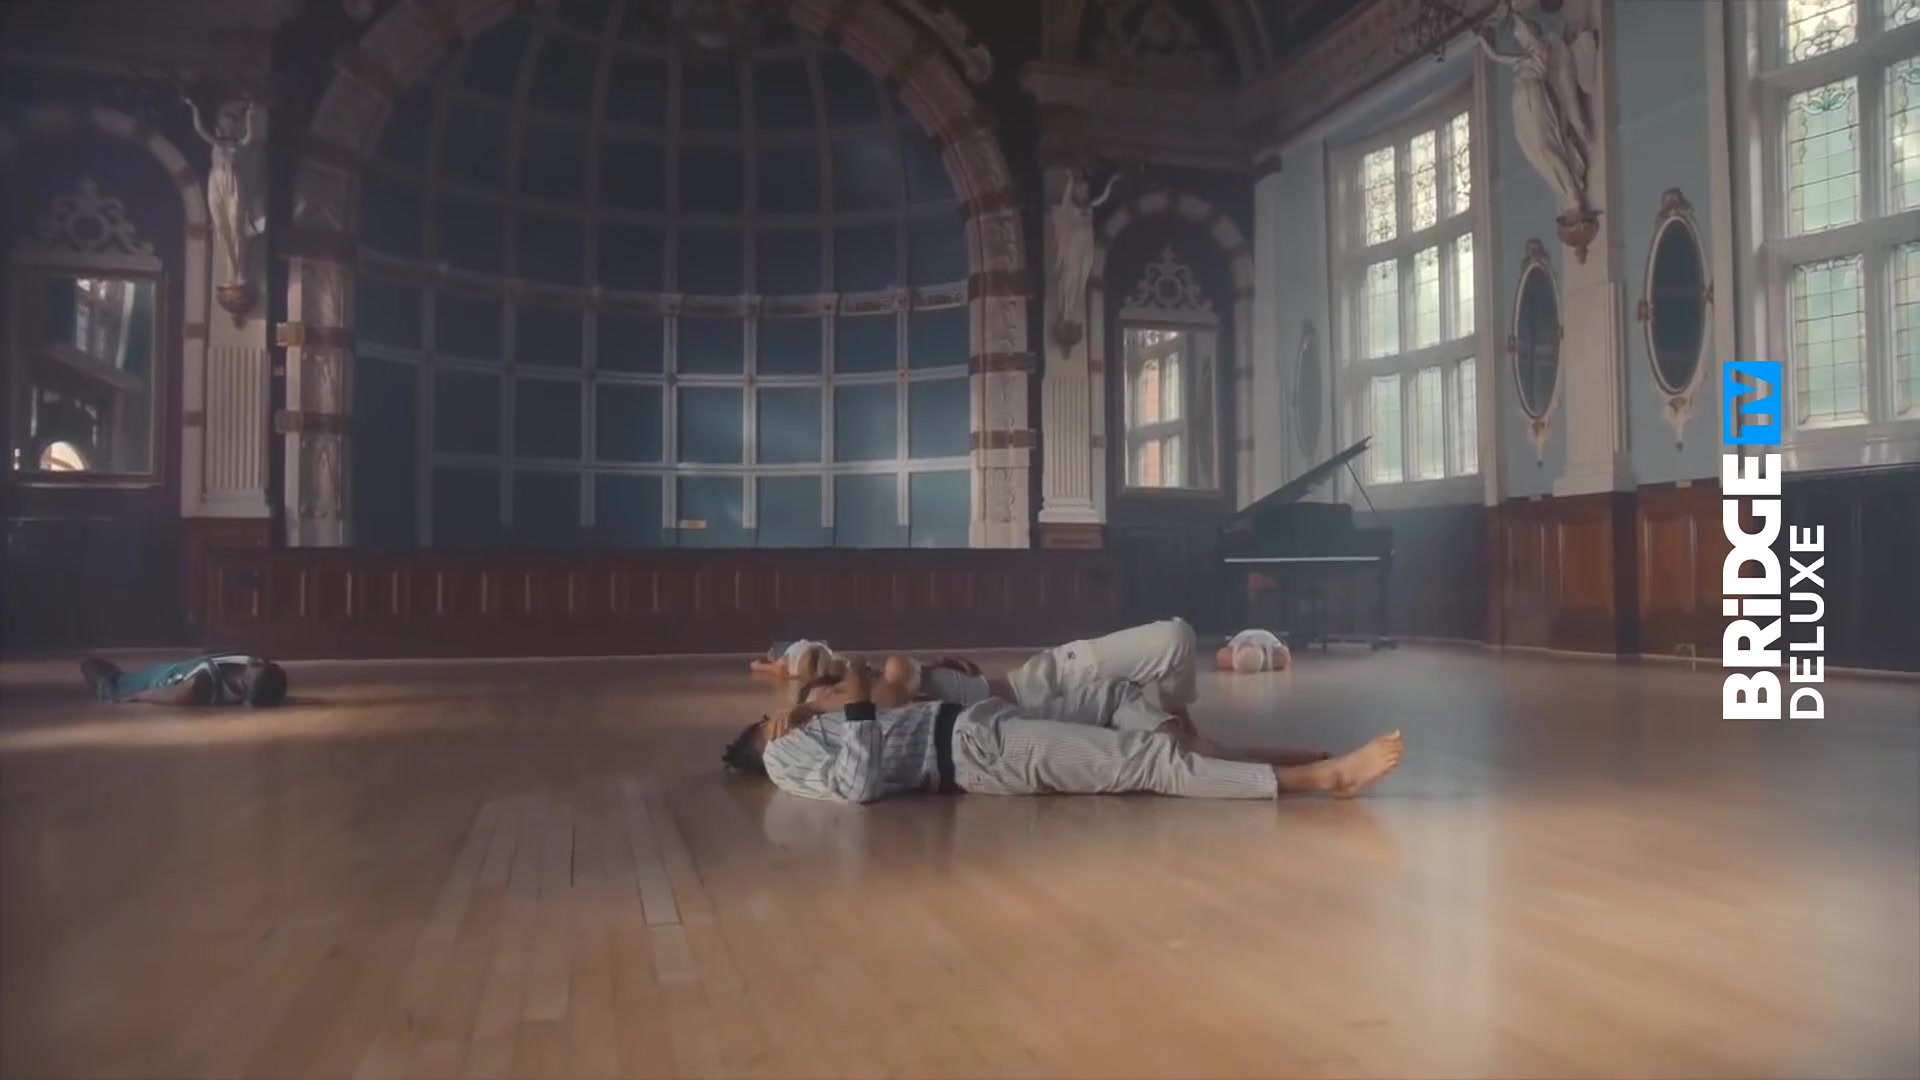Bridge_TV_Deluxe: (1718, 353, 1830, 731)
